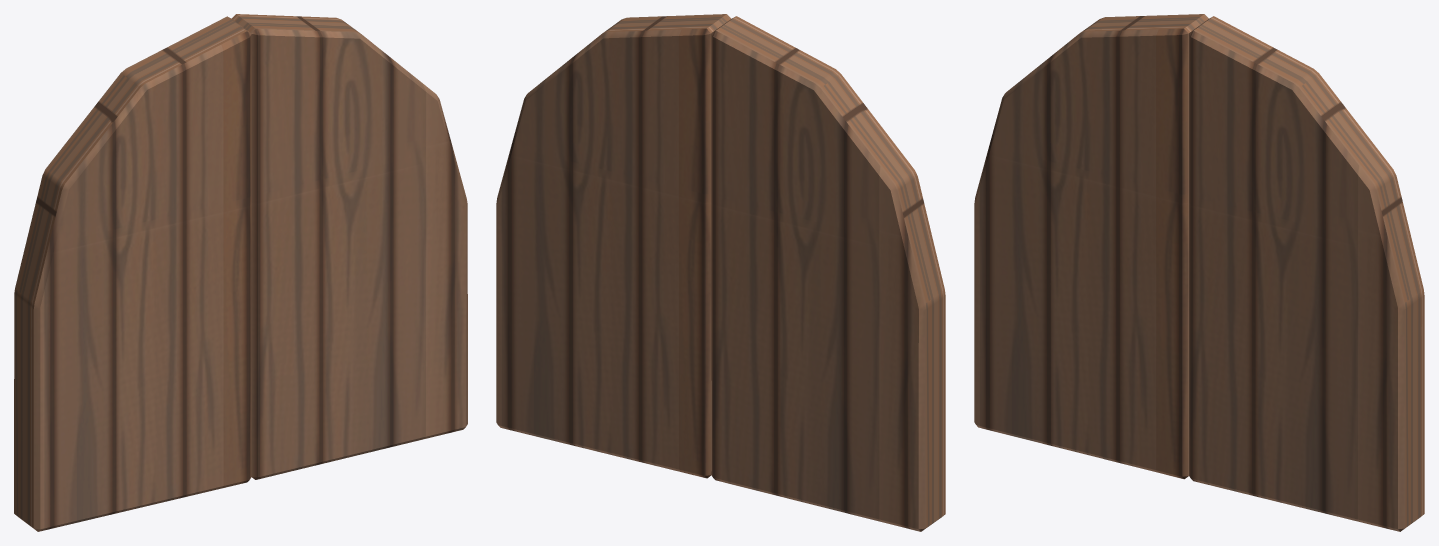
Rendered from Troop Door 1.fbx.
The picture shows the model from 3 angles, left to right: view 1: azimuth 30°, elevation 25°; view 2: azimuth 150°, elevation 25°; view 3: azimuth 330°, elevation 25°; orthographic projection.
Parts seen in each view (by area): view 1: Troop_Door; view 2: Troop_Door; view 3: Troop_Door.
Boxes of the visible parts, x1,y1,x2,y2 form: Troop_Door: [14, 14, 467, 531]; Troop_Door: [496, 14, 945, 531]; Troop_Door: [974, 14, 1424, 531].
Bounding box in the file's own units: 100 × 99.71 × 10.63.
